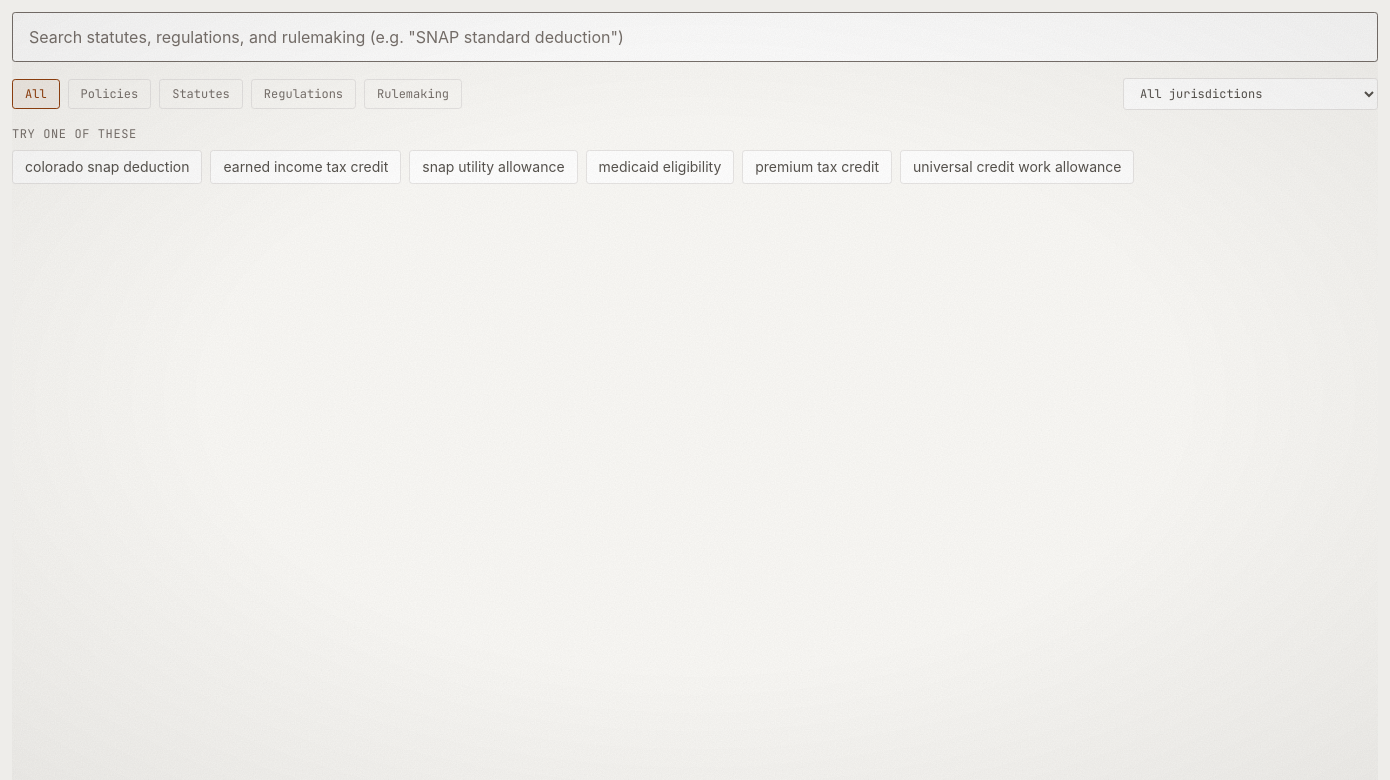
Test: AxiomSearch › debounces and then issues a grouped search returning results
This screenshot has width=1390, height=780.
Step 1. Replace the text in the search field with "SNAP households" → coordinates (695, 37), box [12,12,1378,62]
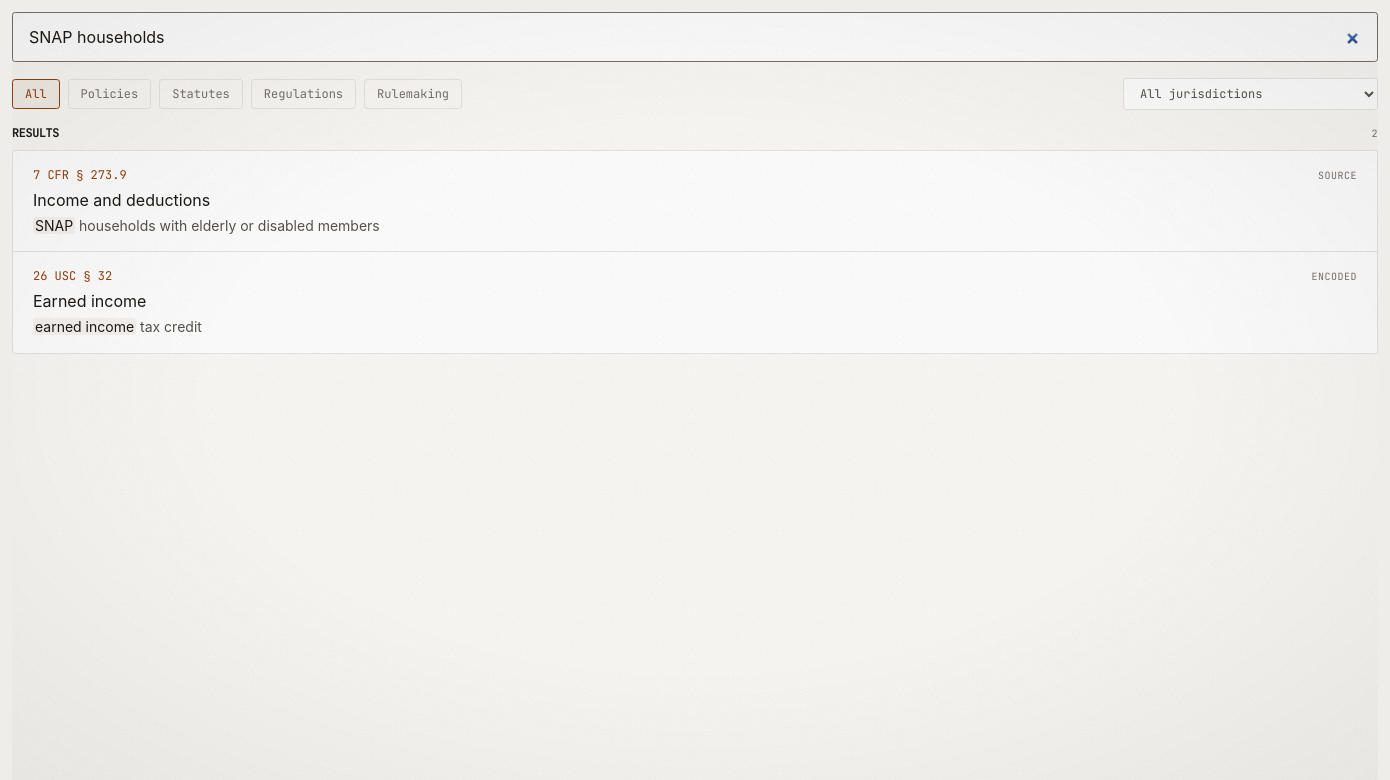
Result: the text "Income and deductions" is shown at [33,190,210,210]
Result: the text "Earned income" is shown at [33,291,146,311]
Result: the text "7 CFR § 273.9" is shown at [33,167,127,183]
